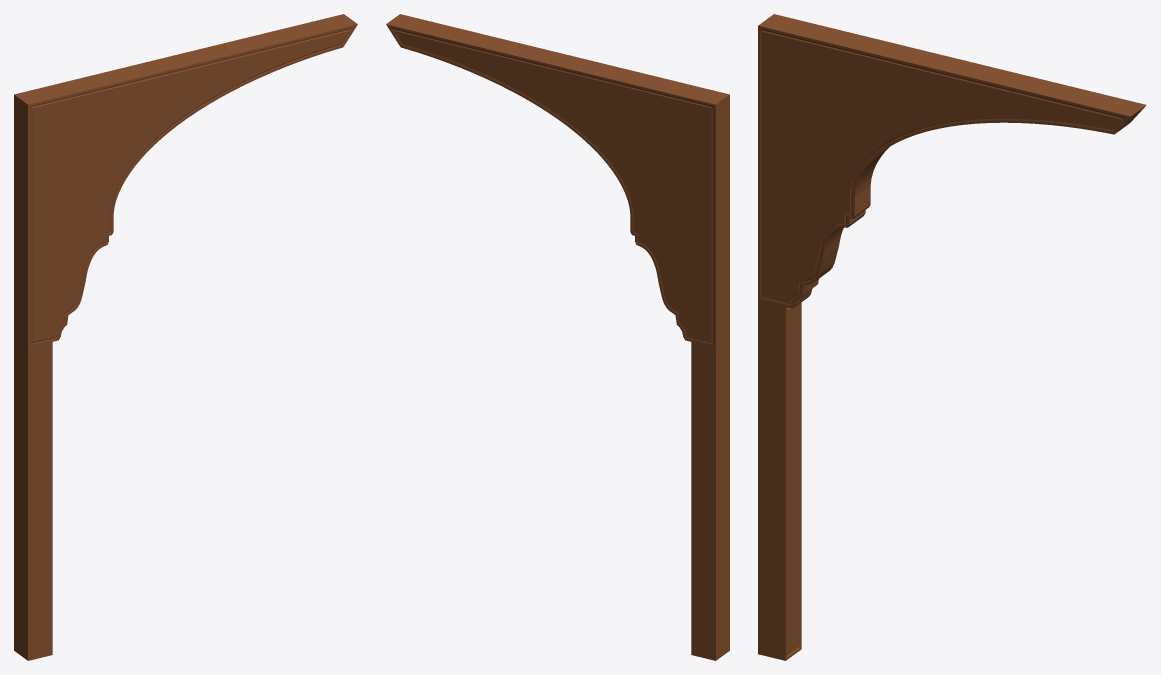
Rendered from BeamArc.fbx.
The picture shows the model from 3 angles, left to right: view 1: azimuth 30°, elevation 25°; view 2: azimuth 150°, elevation 25°; view 3: azimuth 330°, elevation 25°; orthographic projection. The views are drawn at different scales.
Visible parts, largest first — view 1: BeamArc; view 2: BeamArc; view 3: BeamArc.
Part boxes in pixels (bbox=[...]): BeamArc: bbox=[14, 14, 357, 660]; BeamArc: bbox=[386, 14, 729, 660]; BeamArc: bbox=[758, 14, 1146, 660].
Size of the model in its own units: 540 by 870 by 40.71.
